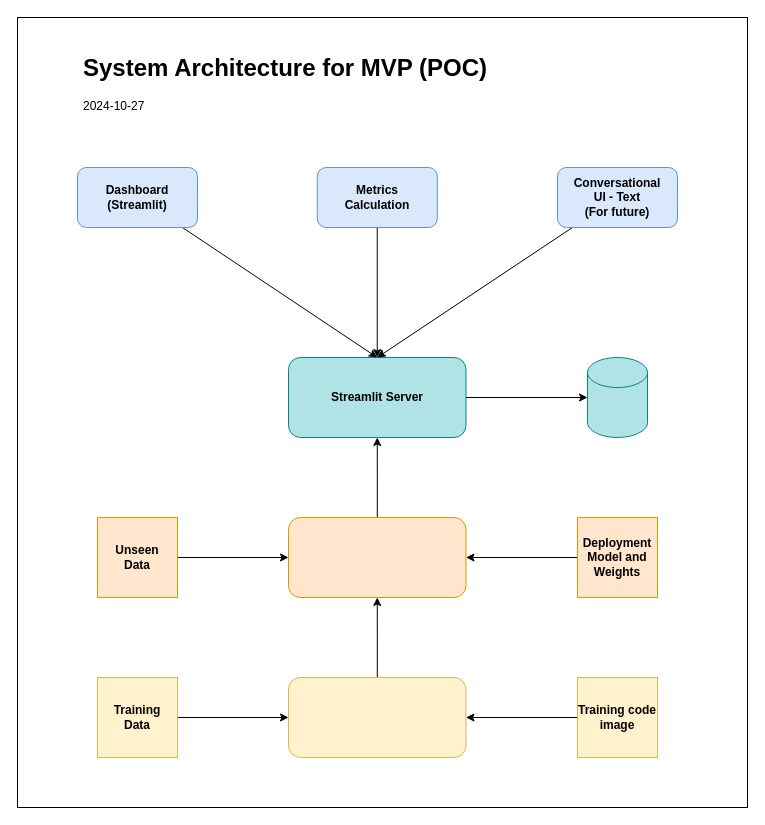
Some shapes in this 765 by 825 pixel diagram are drawn without their labels. Here are the shapes that lost their labels. From the top down, the centre of each, then its label:
At point 617,397: "Topics Database".
At point 377,557: "Deployed Models (HuggingFace Spaces)".
At point 377,717: "Model Training (AWS SageMaker Studio Labs)".
